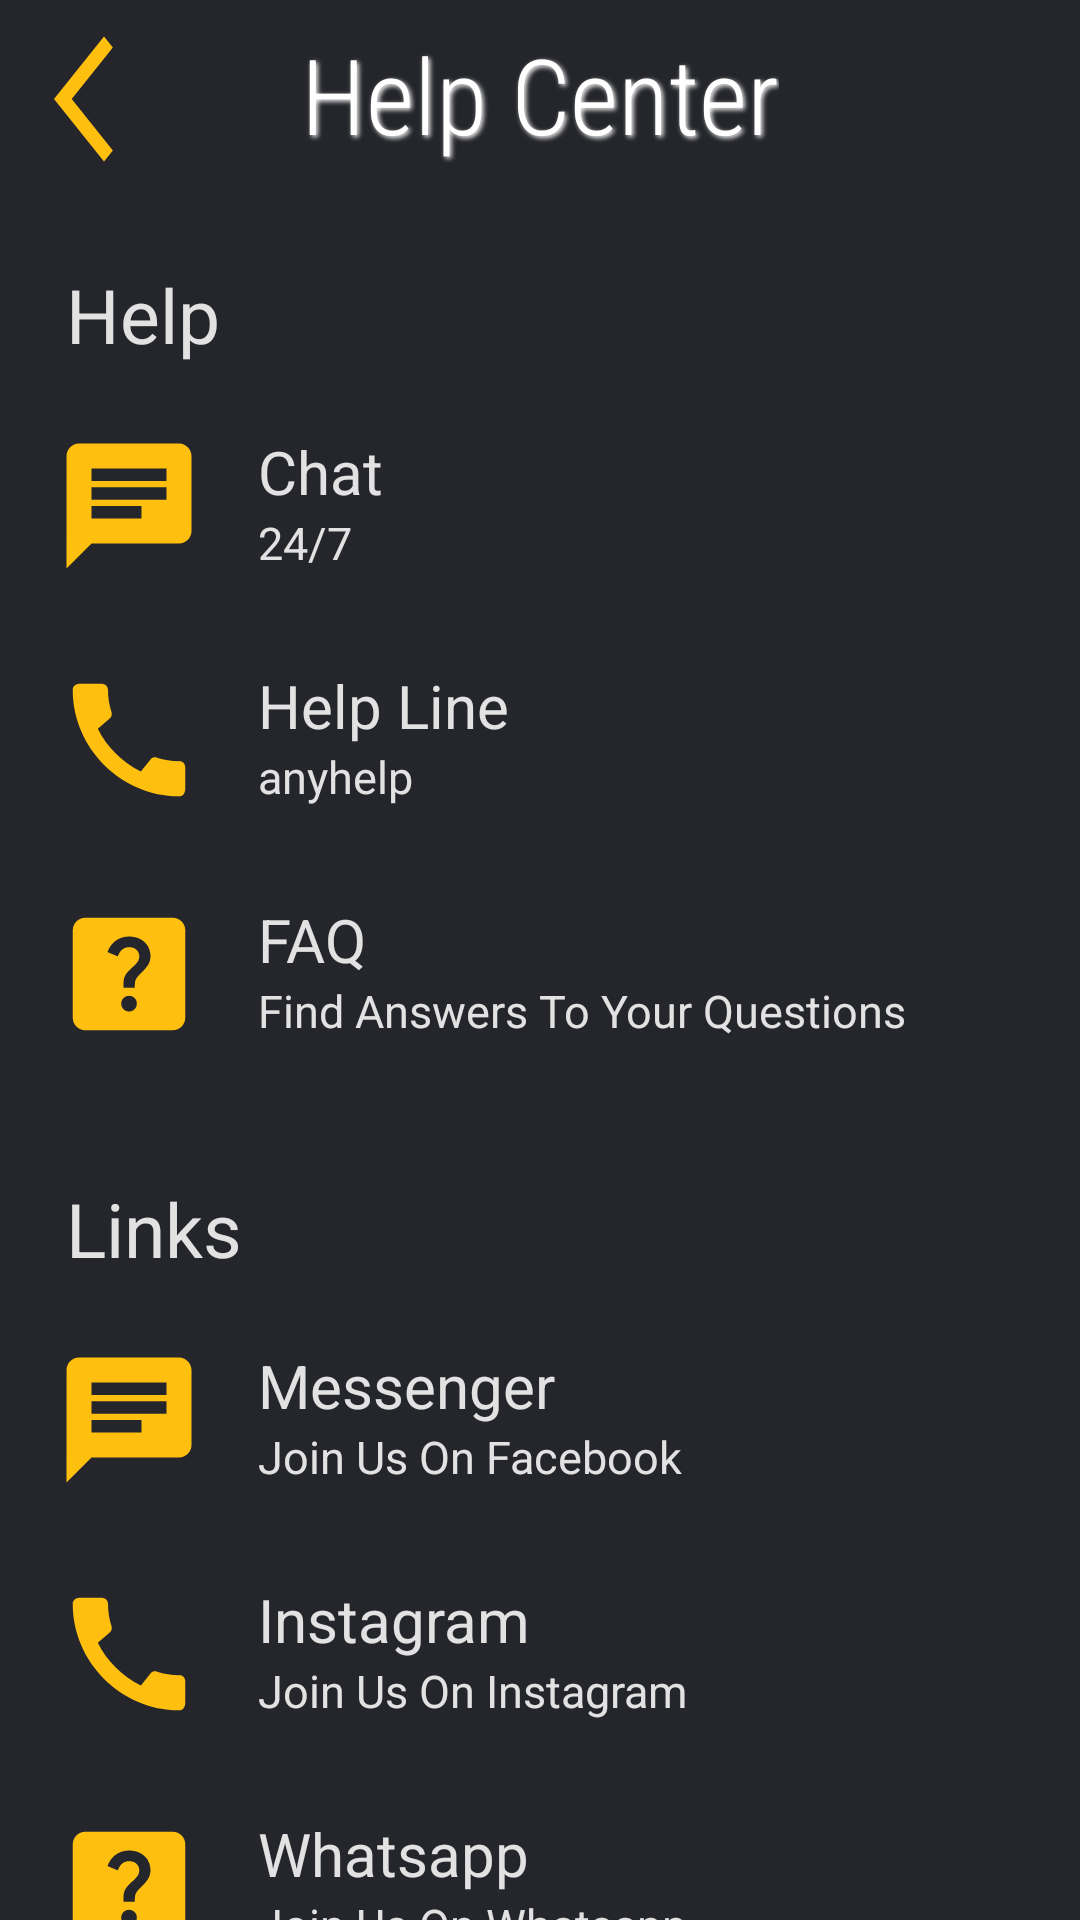

Point at icon controls on the screen. Image size 1080×1920, points as [x,y].
call: [129,740], [129,1654]
go back: [83,99]
